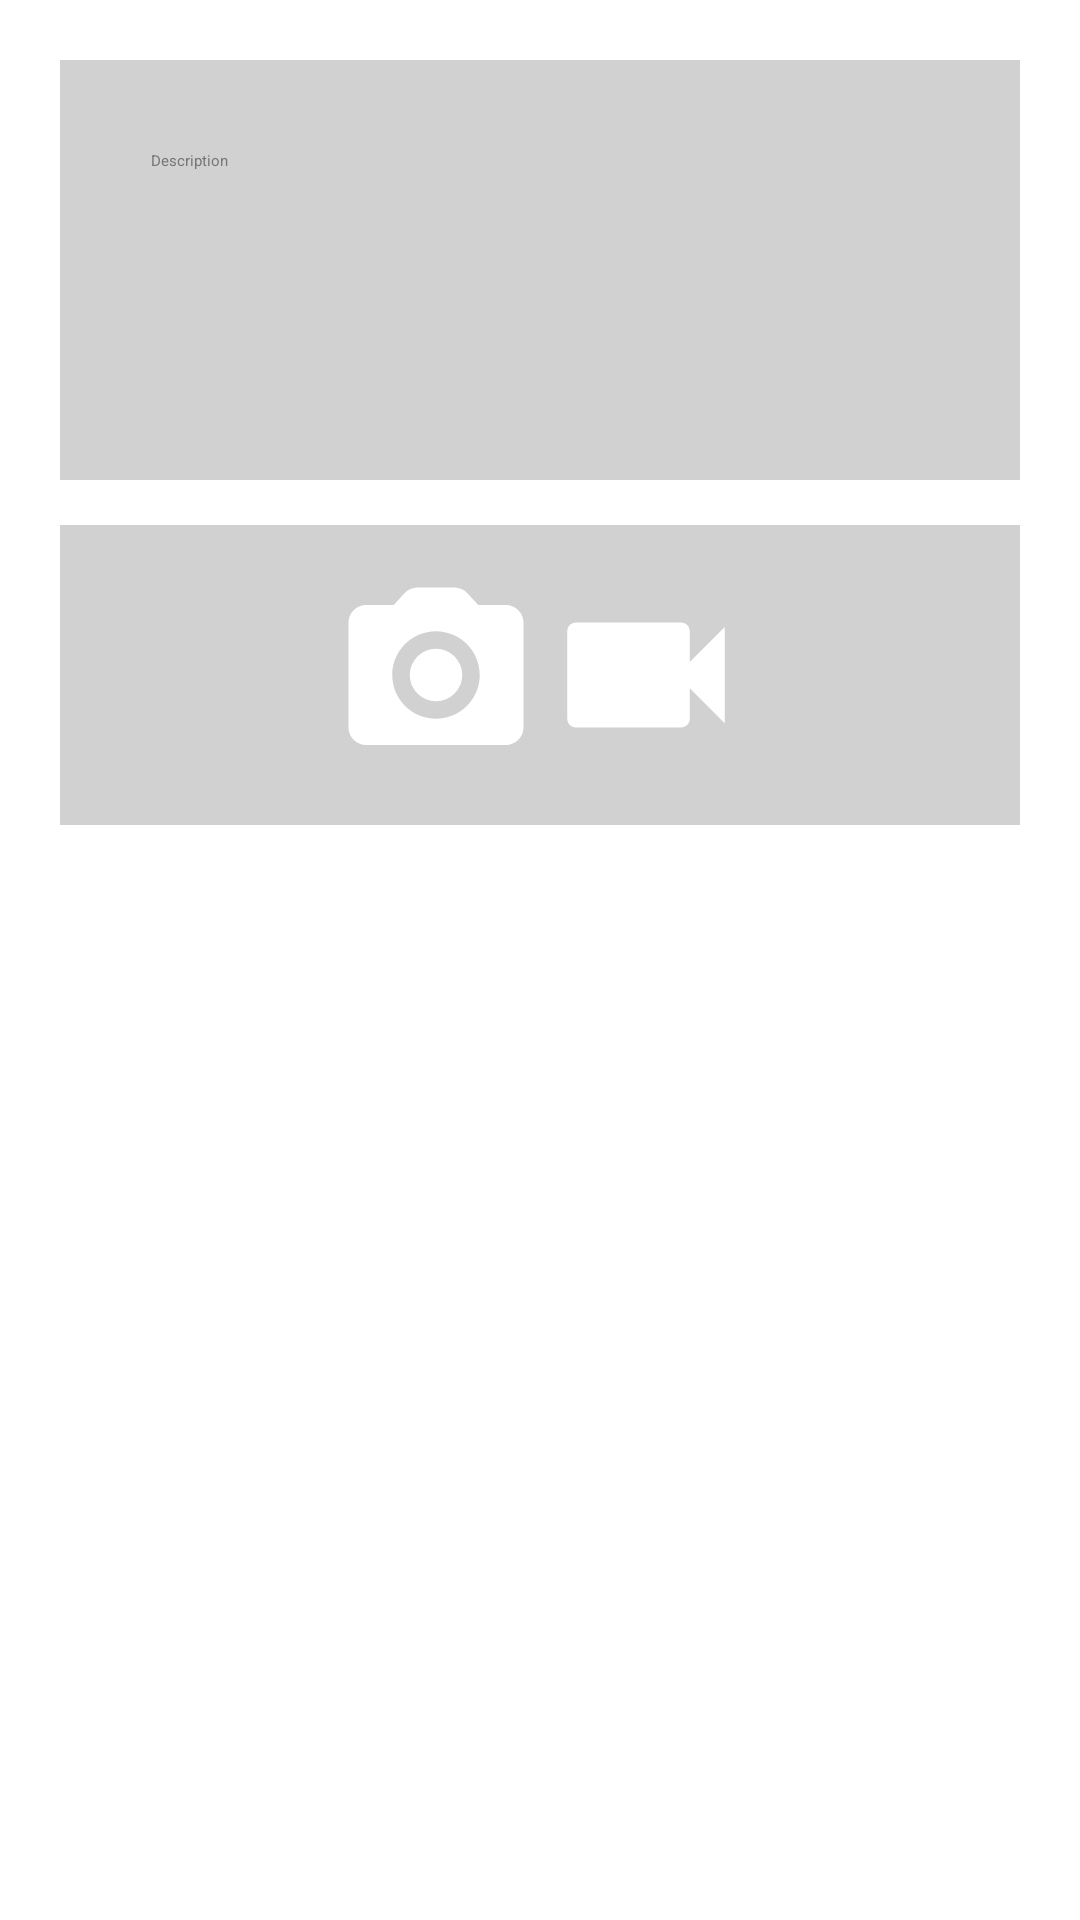

Icons on this 1080 x 1920 Android screen, each with its box as (x1, y1, x2, y2):
photo camera: (349, 588, 523, 745)
videocam: (567, 623, 725, 727)
